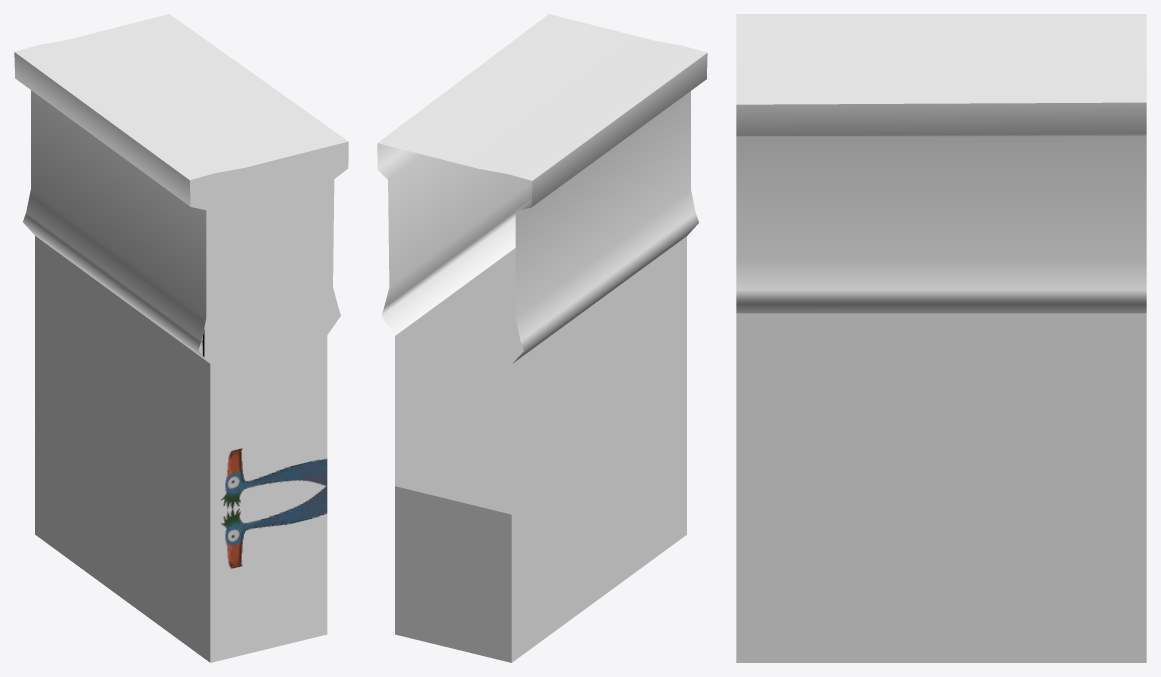
File: Monolito_02.fbx
The picture shows the model from 3 angles, left to right: view 1: azimuth 30°, elevation 25°; view 2: azimuth 150°, elevation 25°; view 3: azimuth 270°, elevation 25°; orthographic projection. The views are drawn at different scales.
Parts seen in each view (by area): view 1: Monolito_02; view 2: Monolito_02; view 3: Monolito_02.
Part boxes in pixels (x1,y1,x2,y2): Monolito_02: (14,14,348,662); Monolito_02: (377,14,707,662); Monolito_02: (736,14,1146,662).
Bounding box in the file's own units: 4.04 × 11.87 × 7.73.
